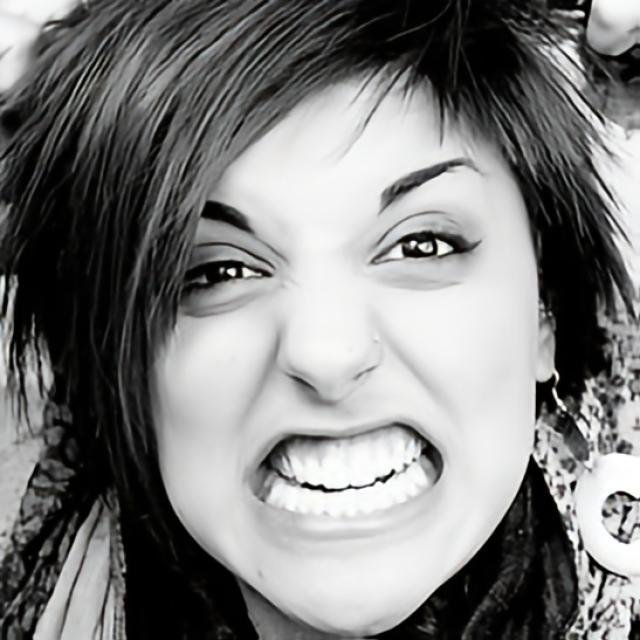anger: (134, 91, 540, 626)
